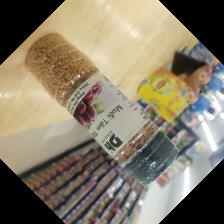TayNinh_green: (23, 31, 181, 187)
